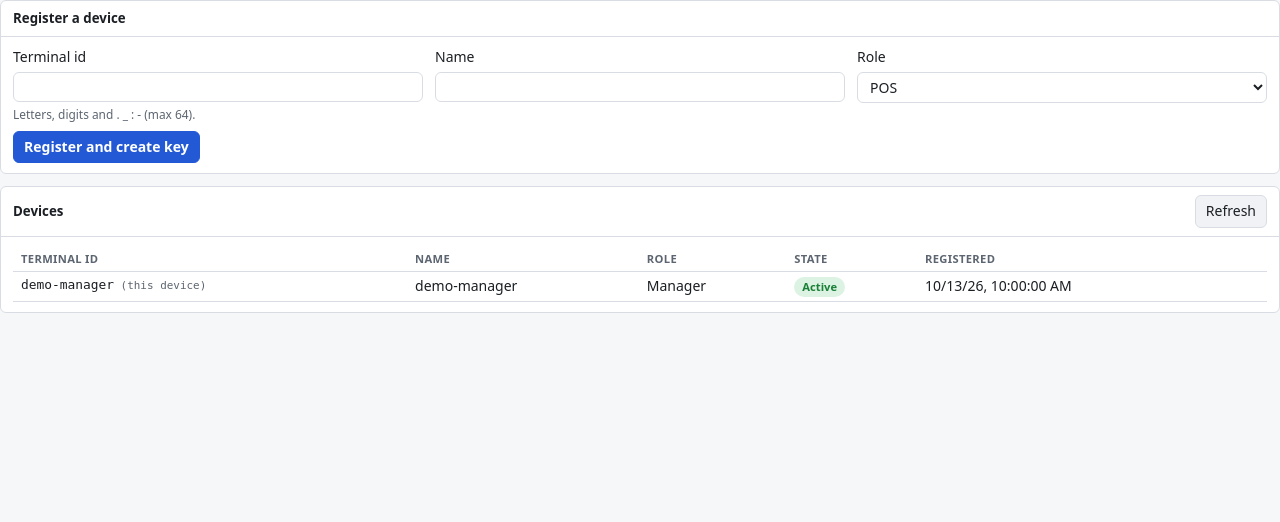
Test: DevicesSection › registers a MONITOR device and shows its key once
The width and height of the screenshot is (1280, 522).
Type "prom-1" into the field labelled "Terminal id". click: (218, 87)
box: [13,72,423,102]
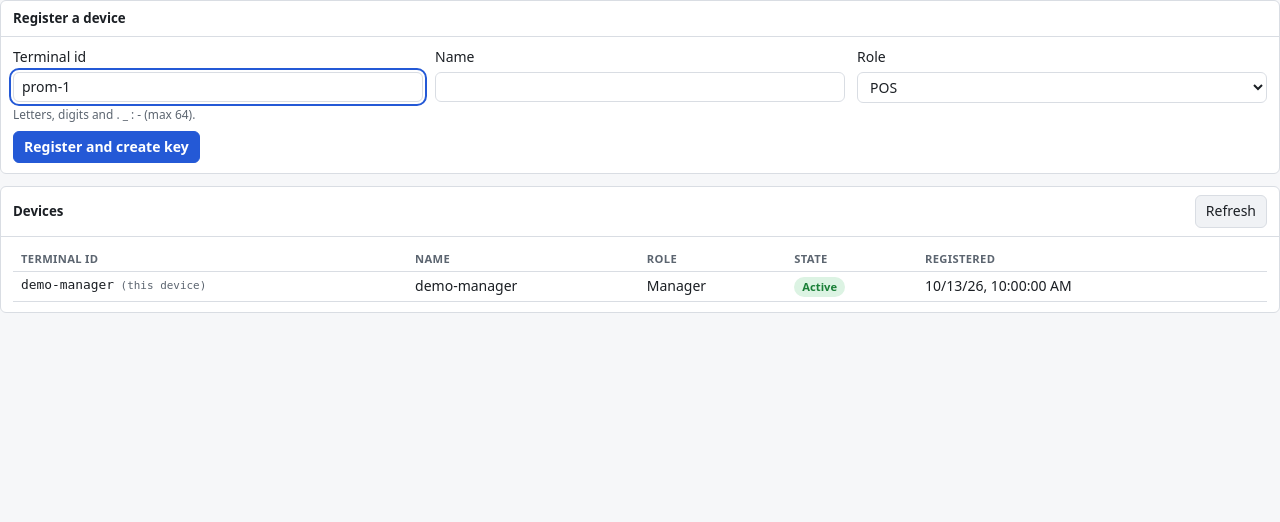
Type "Prometheus" into the field labelled "Name". click: (640, 87)
box: [435,72,845,102]
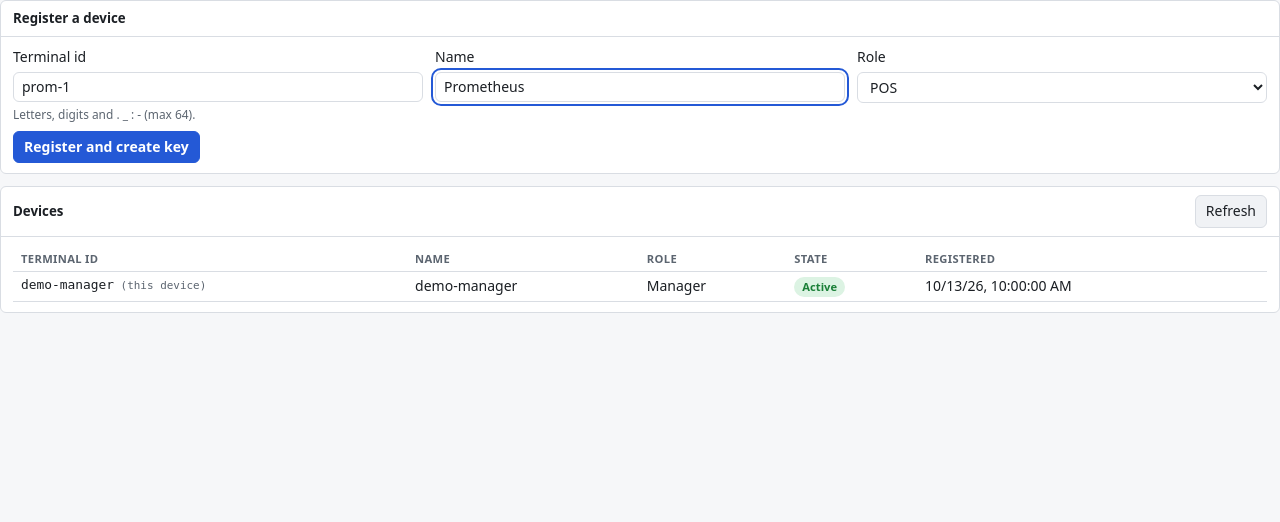
Select "Monitoring" in the dropdown labelled "Role". click: (1062, 87)
box: [857,72,1267,103]
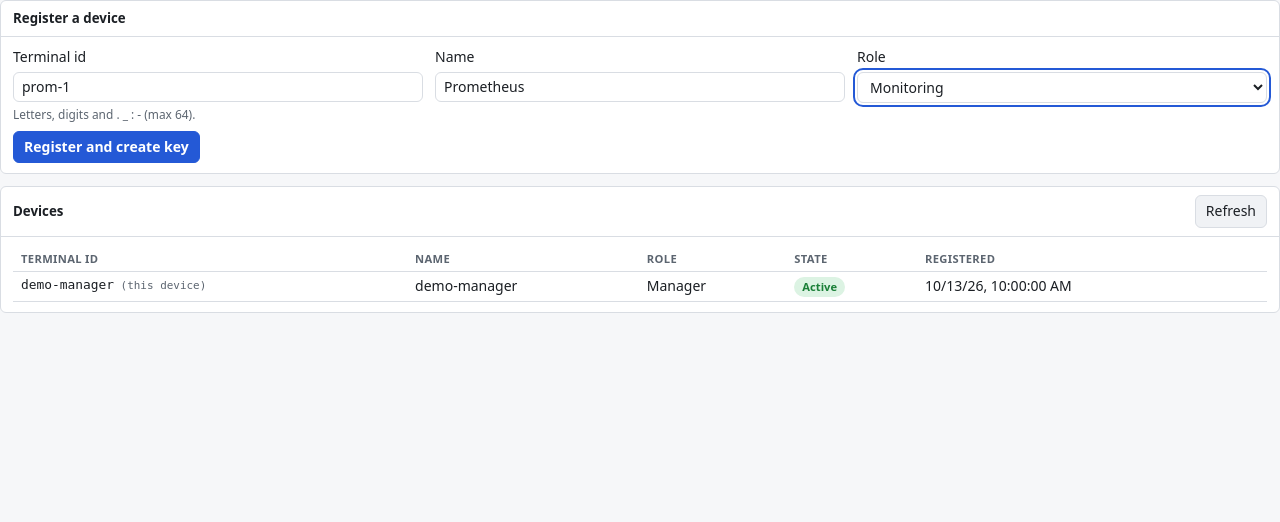
Click the button "Register and create key". click: (106, 147)
box: [13,131,200,163]
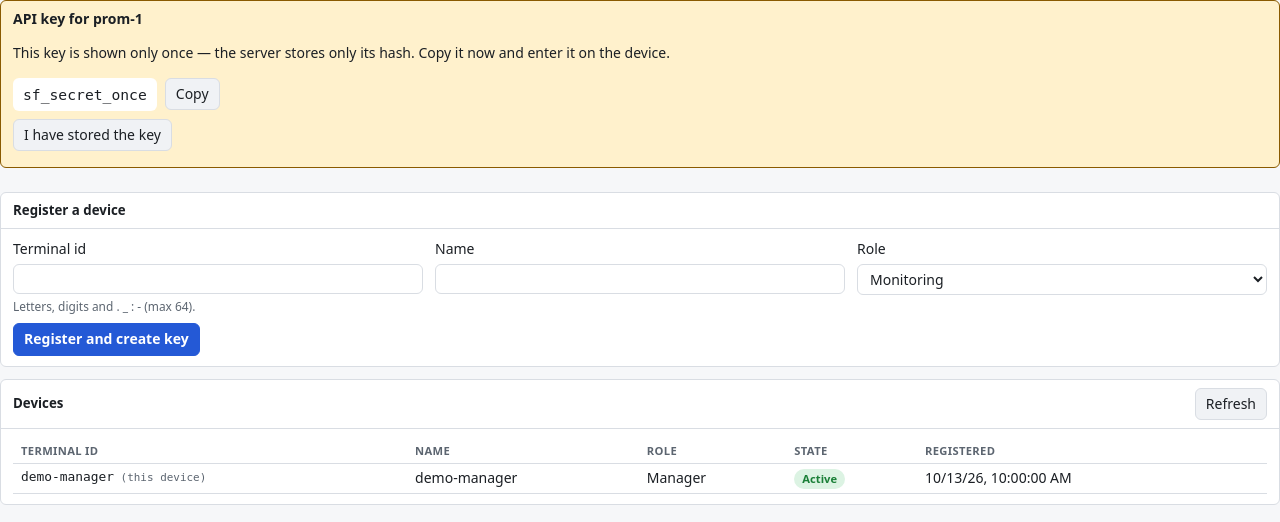
Check: the text with test id "new-api-key" reads "sf_secret_once", box [23,86,147,103]
